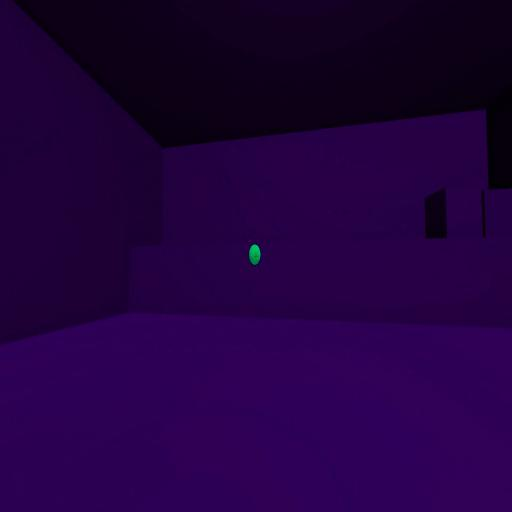Crosshair: (254, 252, 258, 260)
Target: (249, 243, 261, 265)
